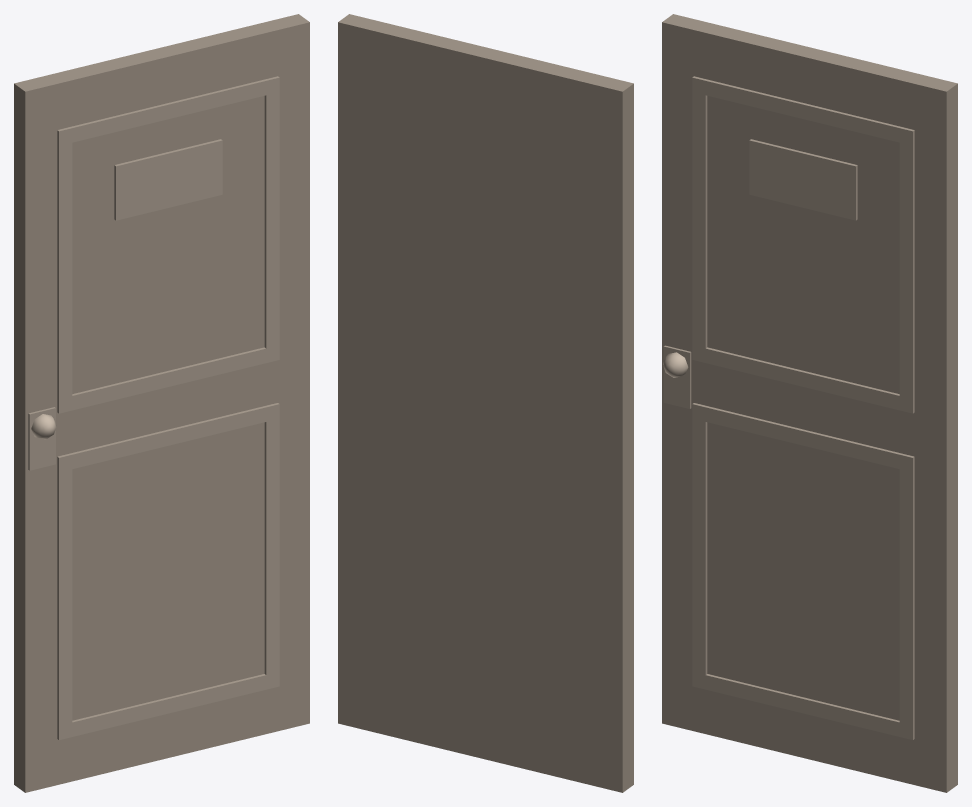
Rendered from whitehallway_door.fbx.
3 views of the same model, side by side, from view 1: azimuth 30°, elevation 25°; view 2: azimuth 150°, elevation 25°; view 3: azimuth 330°, elevation 25° (orthographic).
Parts seen in each view (by area): view 1: polySurface449, polySurface450, polySurface454, polySurface453, polySurface452; view 2: polySurface449; view 3: polySurface449, polySurface450, polySurface454, polySurface453, polySurface452.
Part boxes in pixels (x1,y1,x2,y2): polySurface449: (14, 14, 309, 792); polySurface450: (57, 76, 279, 413); polySurface454: (57, 403, 279, 739); polySurface453: (114, 139, 222, 220); polySurface452: (28, 407, 55, 470); polySurface449: (338, 14, 633, 792); polySurface449: (662, 14, 957, 792); polySurface450: (692, 76, 914, 413); polySurface454: (692, 403, 914, 739); polySurface453: (749, 139, 857, 220); polySurface452: (663, 345, 691, 408).
Size of the model in its own units: 1.2 by 2.83 by 0.145.
